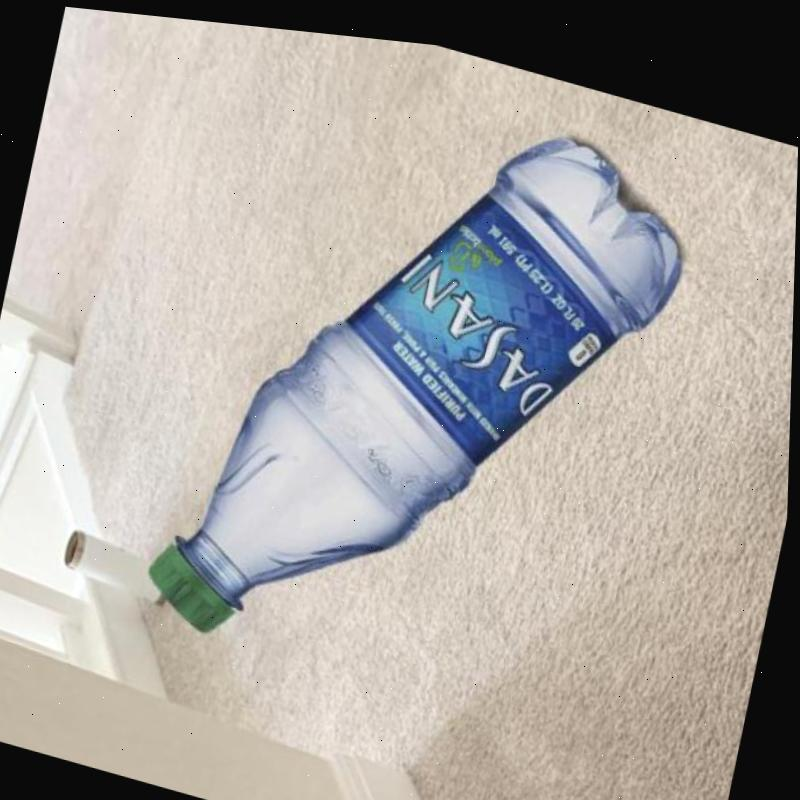botella: (141, 34, 706, 735)
